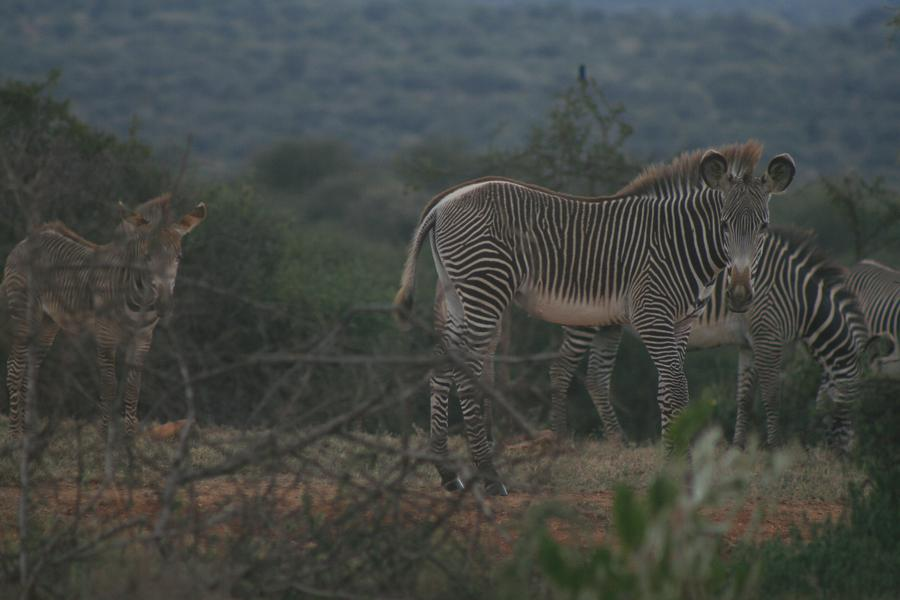zebra_grevys: (426, 165, 696, 326)
